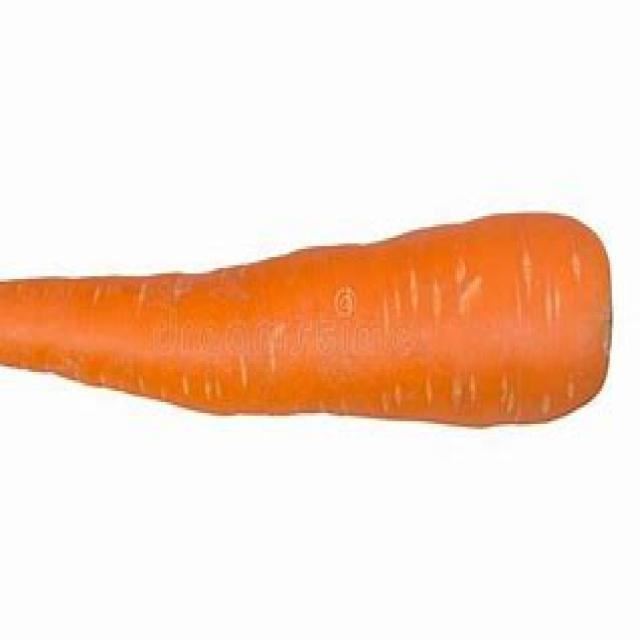Carrot: (0, 214, 607, 420)
